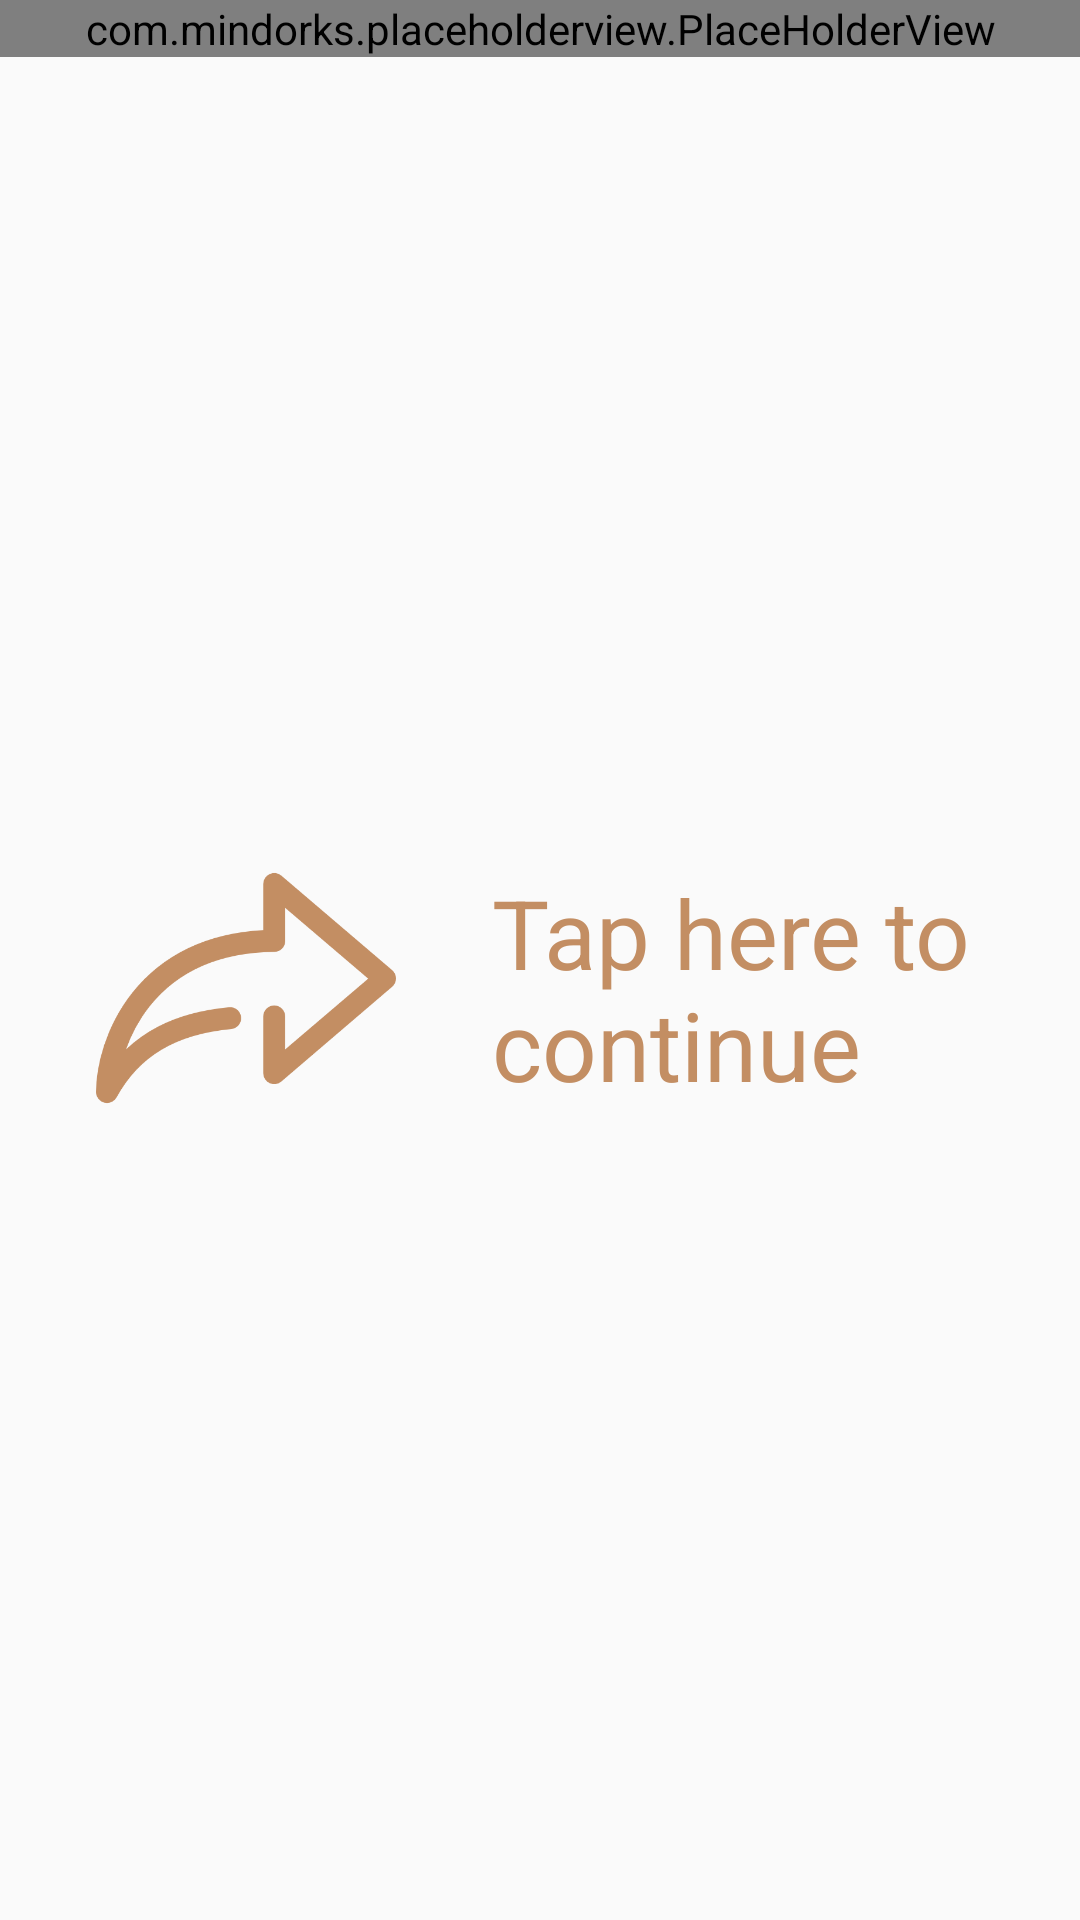

Screen size 1080 x 1920. Icon name, then its center in pixels as point (x, y):
arrows: point (246, 988)
